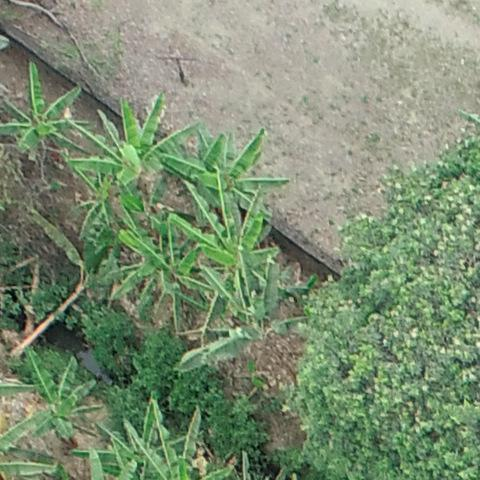Banana-plant: (190, 257, 320, 379), (81, 96, 202, 218), (189, 128, 292, 228), (3, 346, 100, 444), (114, 224, 212, 316), (2, 67, 88, 163), (196, 202, 281, 284), (109, 401, 187, 480)
